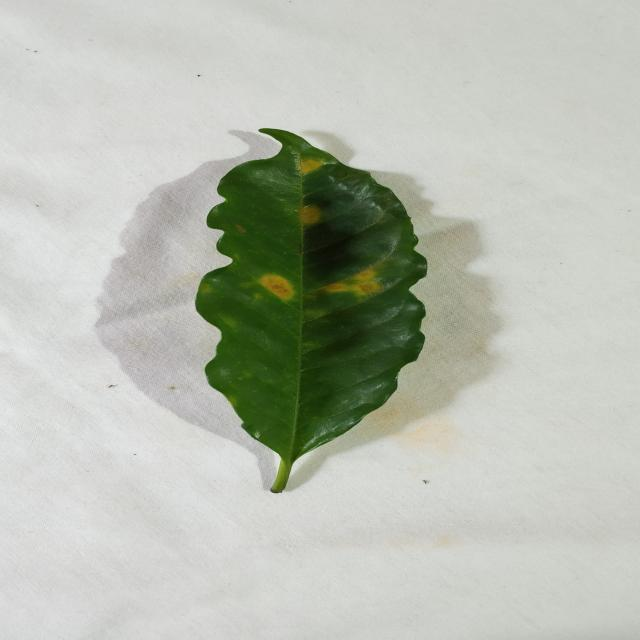Enfermedad-Roya: (192, 128, 429, 495)
